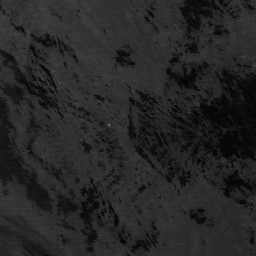Target: (106, 122, 111, 128)
